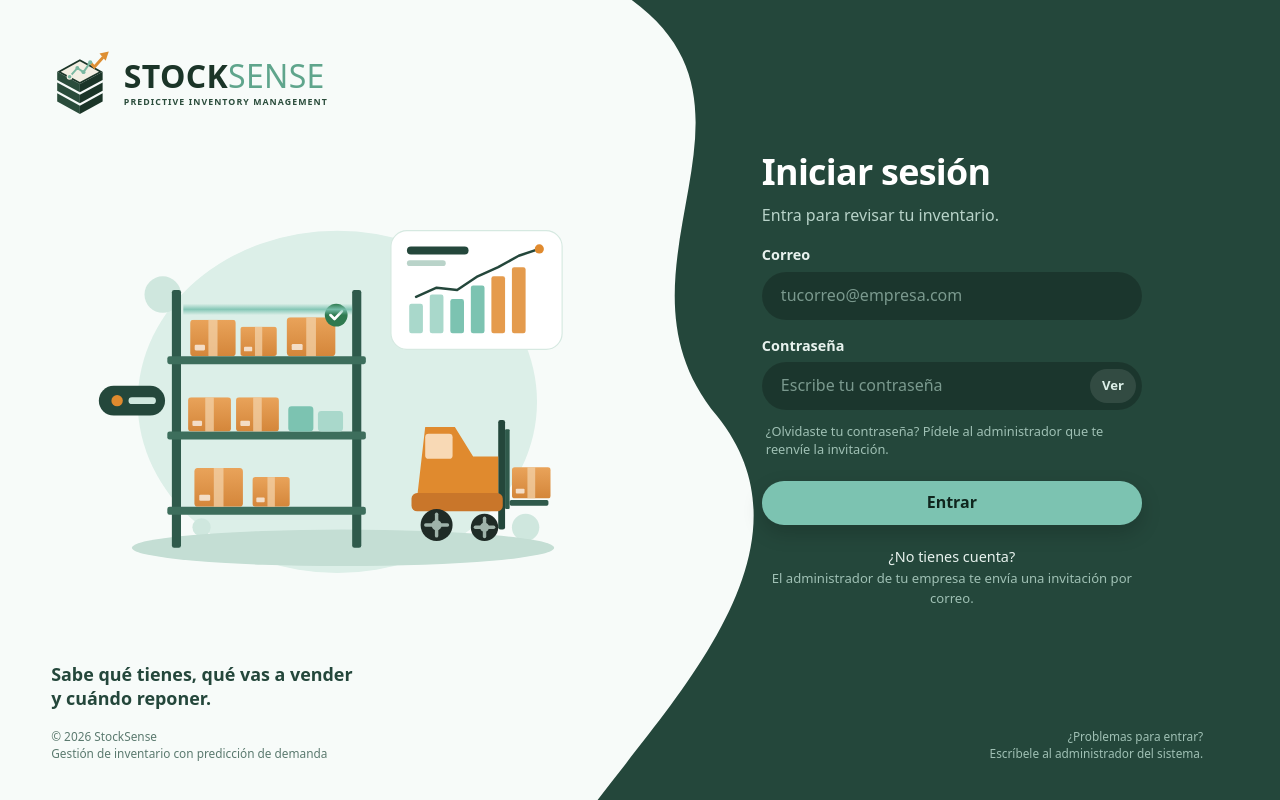
Test: Pantalla de login (T-01.3) › avisa cuando el servidor no responde
Type "laura@x.co" into the field labelled "Correo" at [952, 296], box left=762, top=272, right=1142, bottom=320
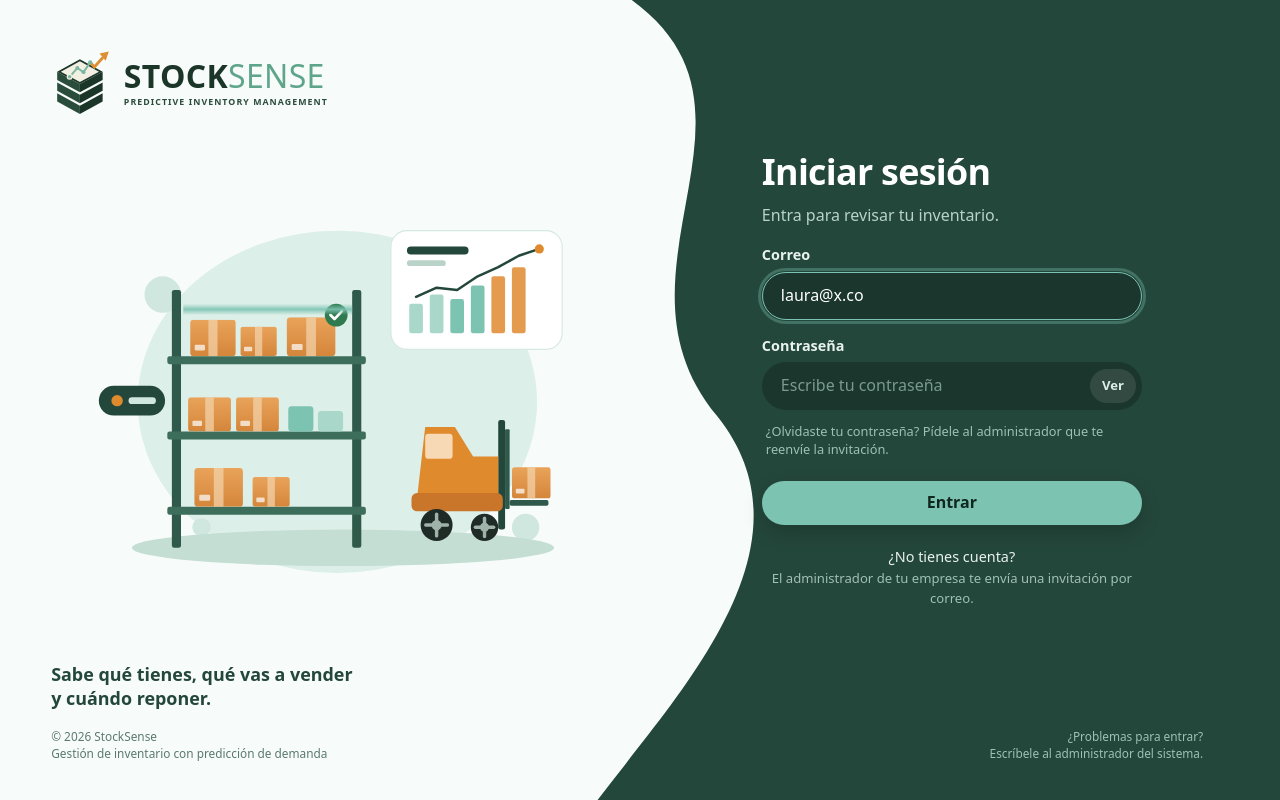
Type "algo" into the password field labelled "Contraseña" at [952, 386], box left=762, top=362, right=1142, bottom=410
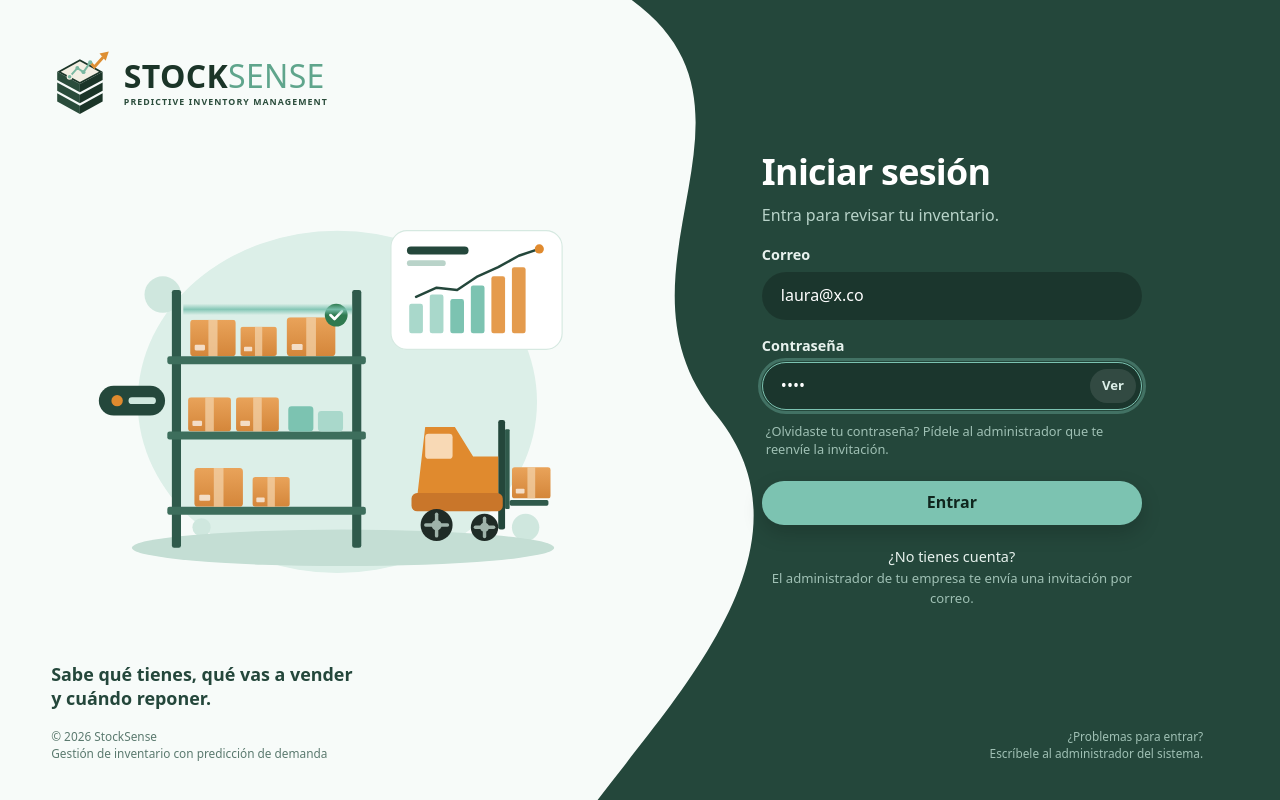
Click the button "Entrar" at [952, 503], box left=762, top=481, right=1142, bottom=525
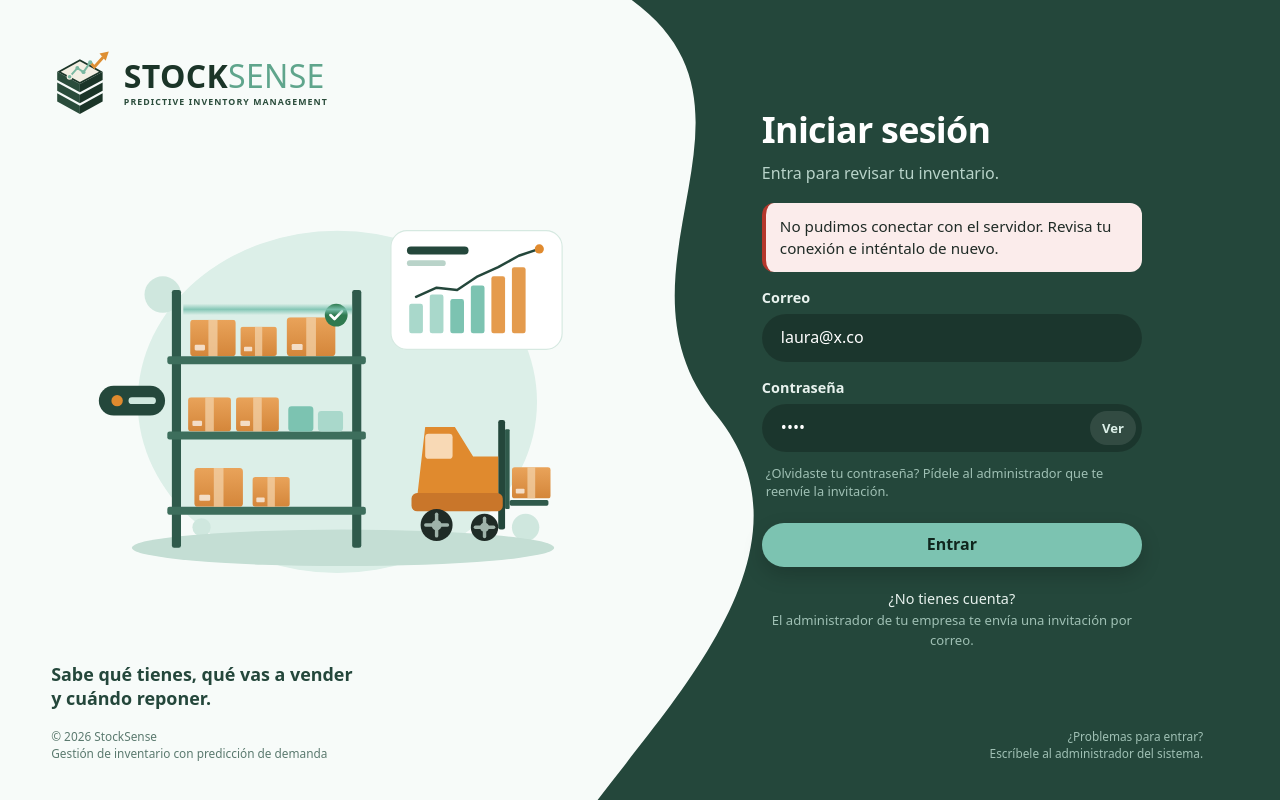
Check: the text "No pudimos conectar con el servidor. Revisa tu conexión e inténtalo de nuevo." is shown, box left=762, top=203, right=1142, bottom=272
